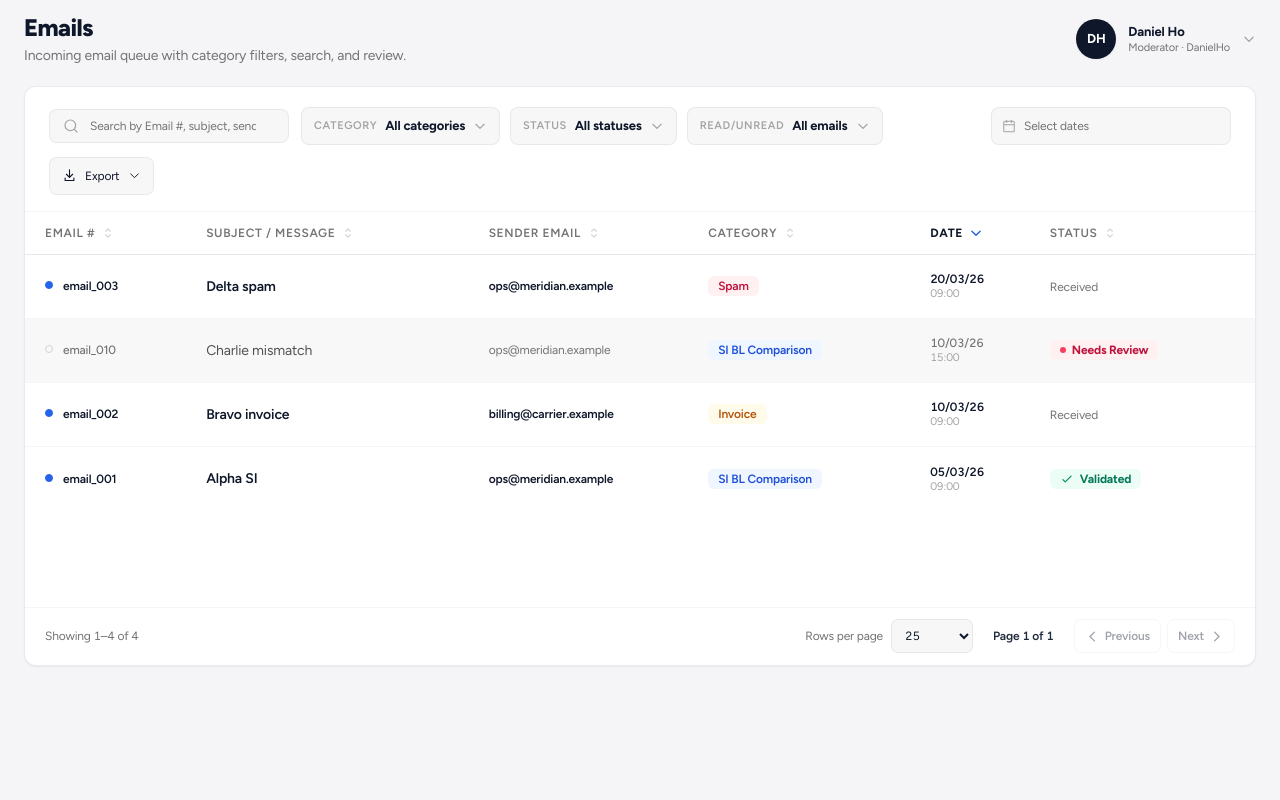
Test: Emails review › opens an email from its row with a click or the keyboard
Click the text "Bravo invoice" at (248, 414), box [206,406,290,423]
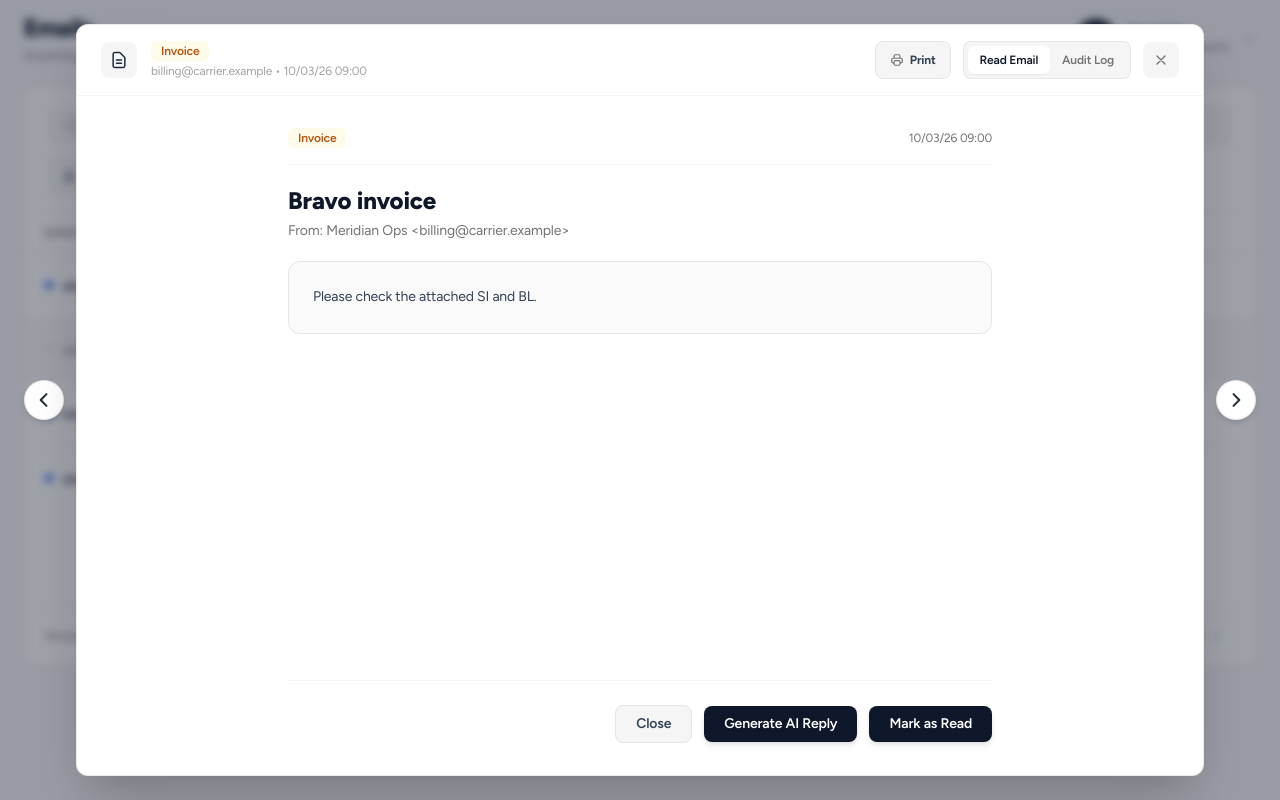
Result: the dialog named "Email Transmission email_002" is shown
Click the button named "Close" at (1161, 60), box [1143,42,1179,78]
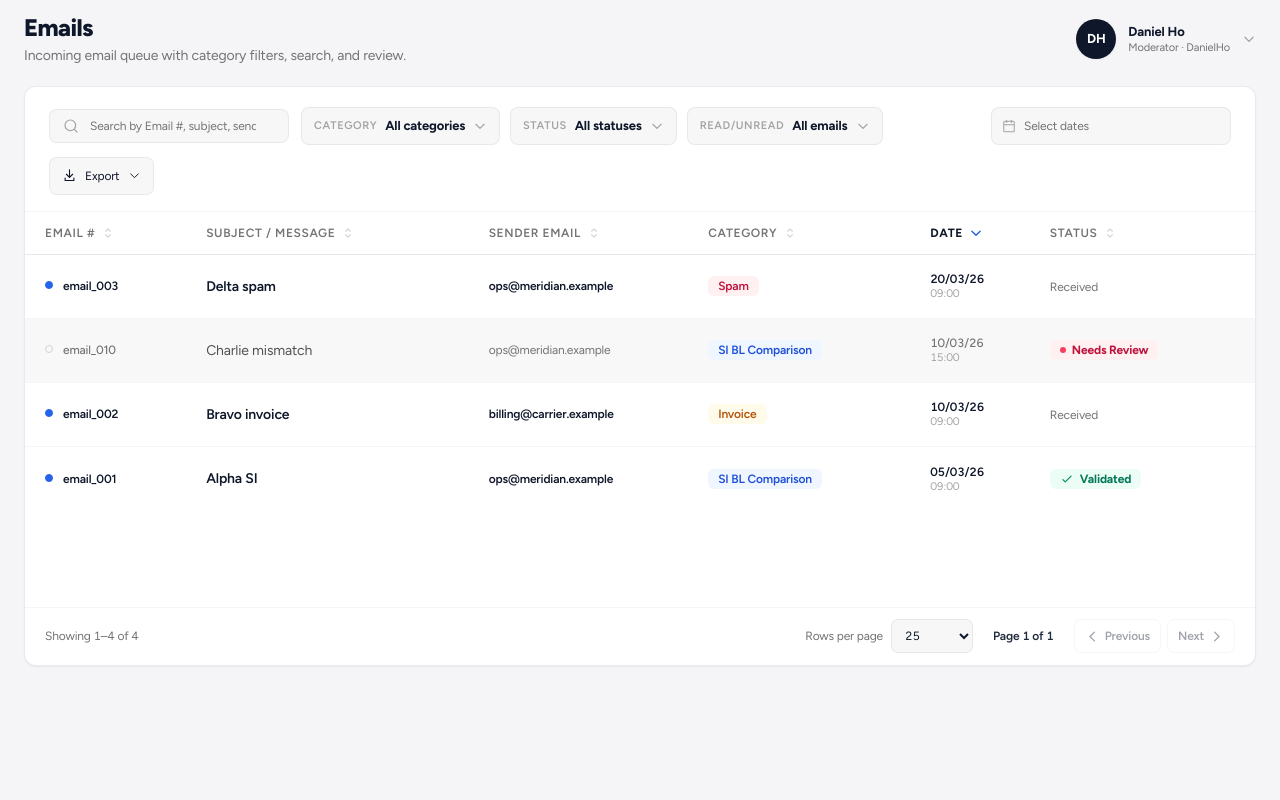
Result: the dialog is gone
Press Enter in the text "Delta spam", box [25,254,1255,318]
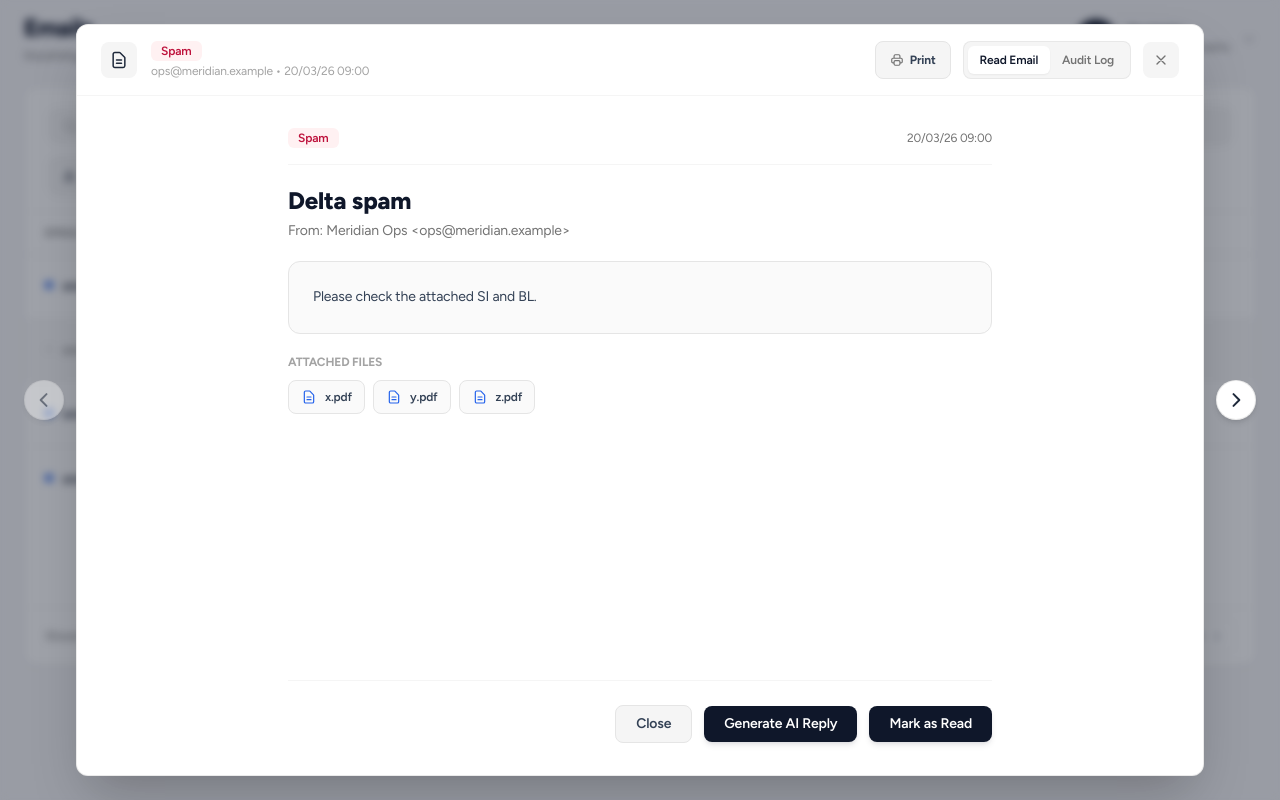
Result: the dialog named "Email Transmission email_003" is shown
